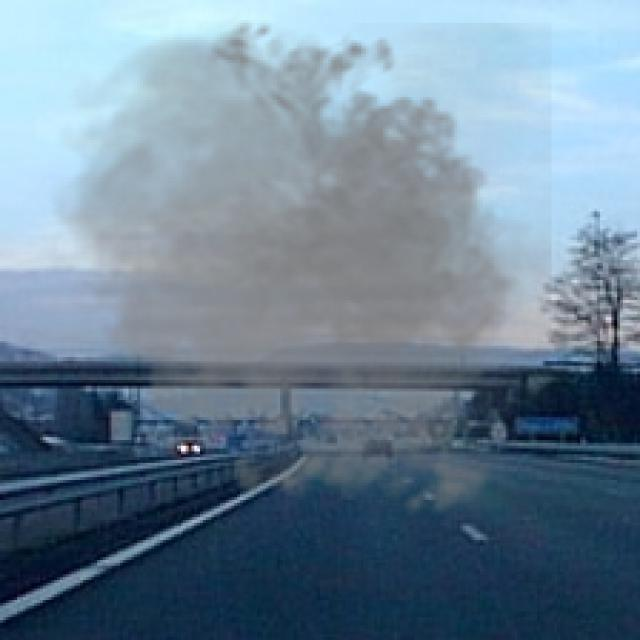smoke: (31, 11, 552, 528)
